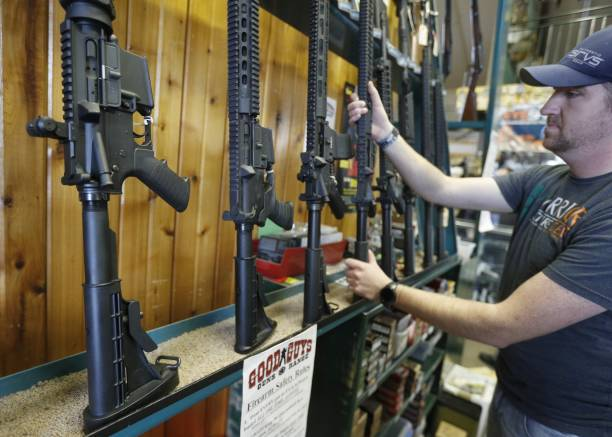rifle: (24, 3, 202, 427), (186, 1, 307, 352), (286, 3, 357, 328)
